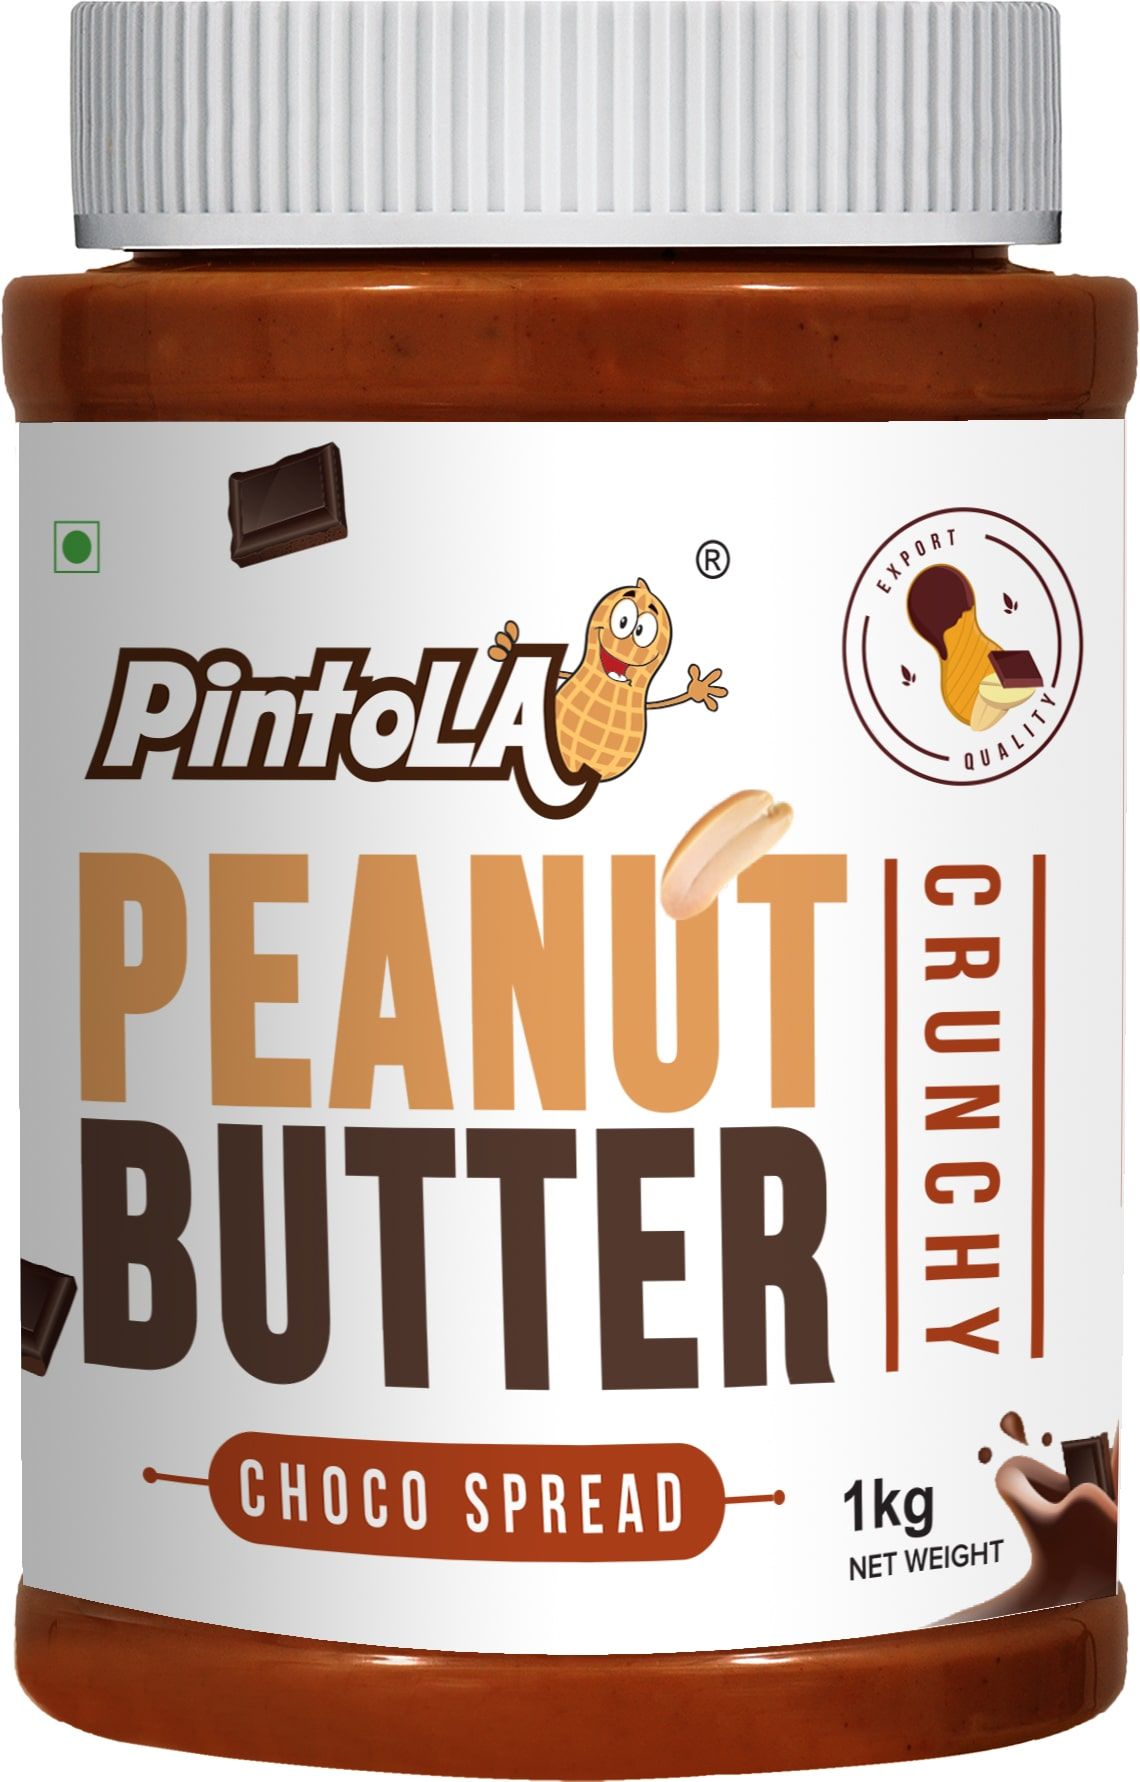JAR: (6, 1, 1132, 1782)
